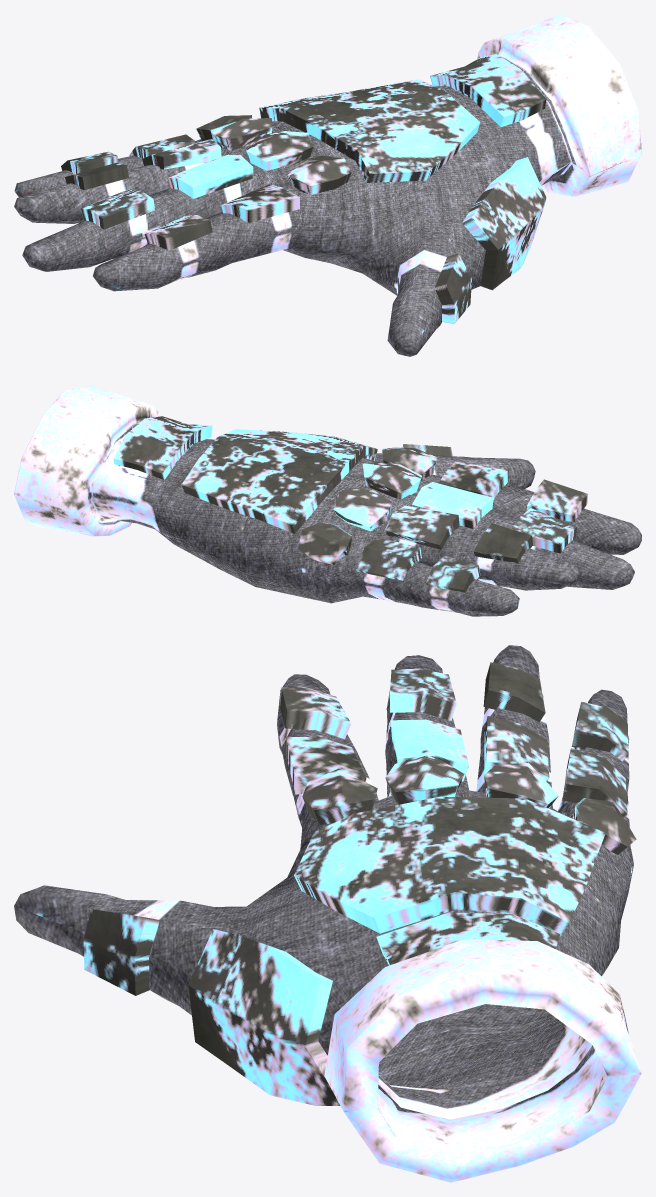
File: holy_gauntlets.glb
3 renders of one model, top to bottom at view 1: azimuth 30°, elevation 25°; view 2: azimuth 150°, elevation 25°; view 3: azimuth 270°, elevation 25°, orthographic. The views are drawn at different scales.
Parts seen in each view (by area): view 1: holy_gauntlets_export; view 2: holy_gauntlets_export; view 3: holy_gauntlets_export.
Part boxes in pixels (x1,y1,x2,y2): holy_gauntlets_export: [14, 14, 641, 356]; holy_gauntlets_export: [14, 385, 641, 616]; holy_gauntlets_export: [14, 645, 641, 1182].
Size of the model in its own units: 0.1914 by 0.0507 by 0.1208.
1 material, 1 textured.
